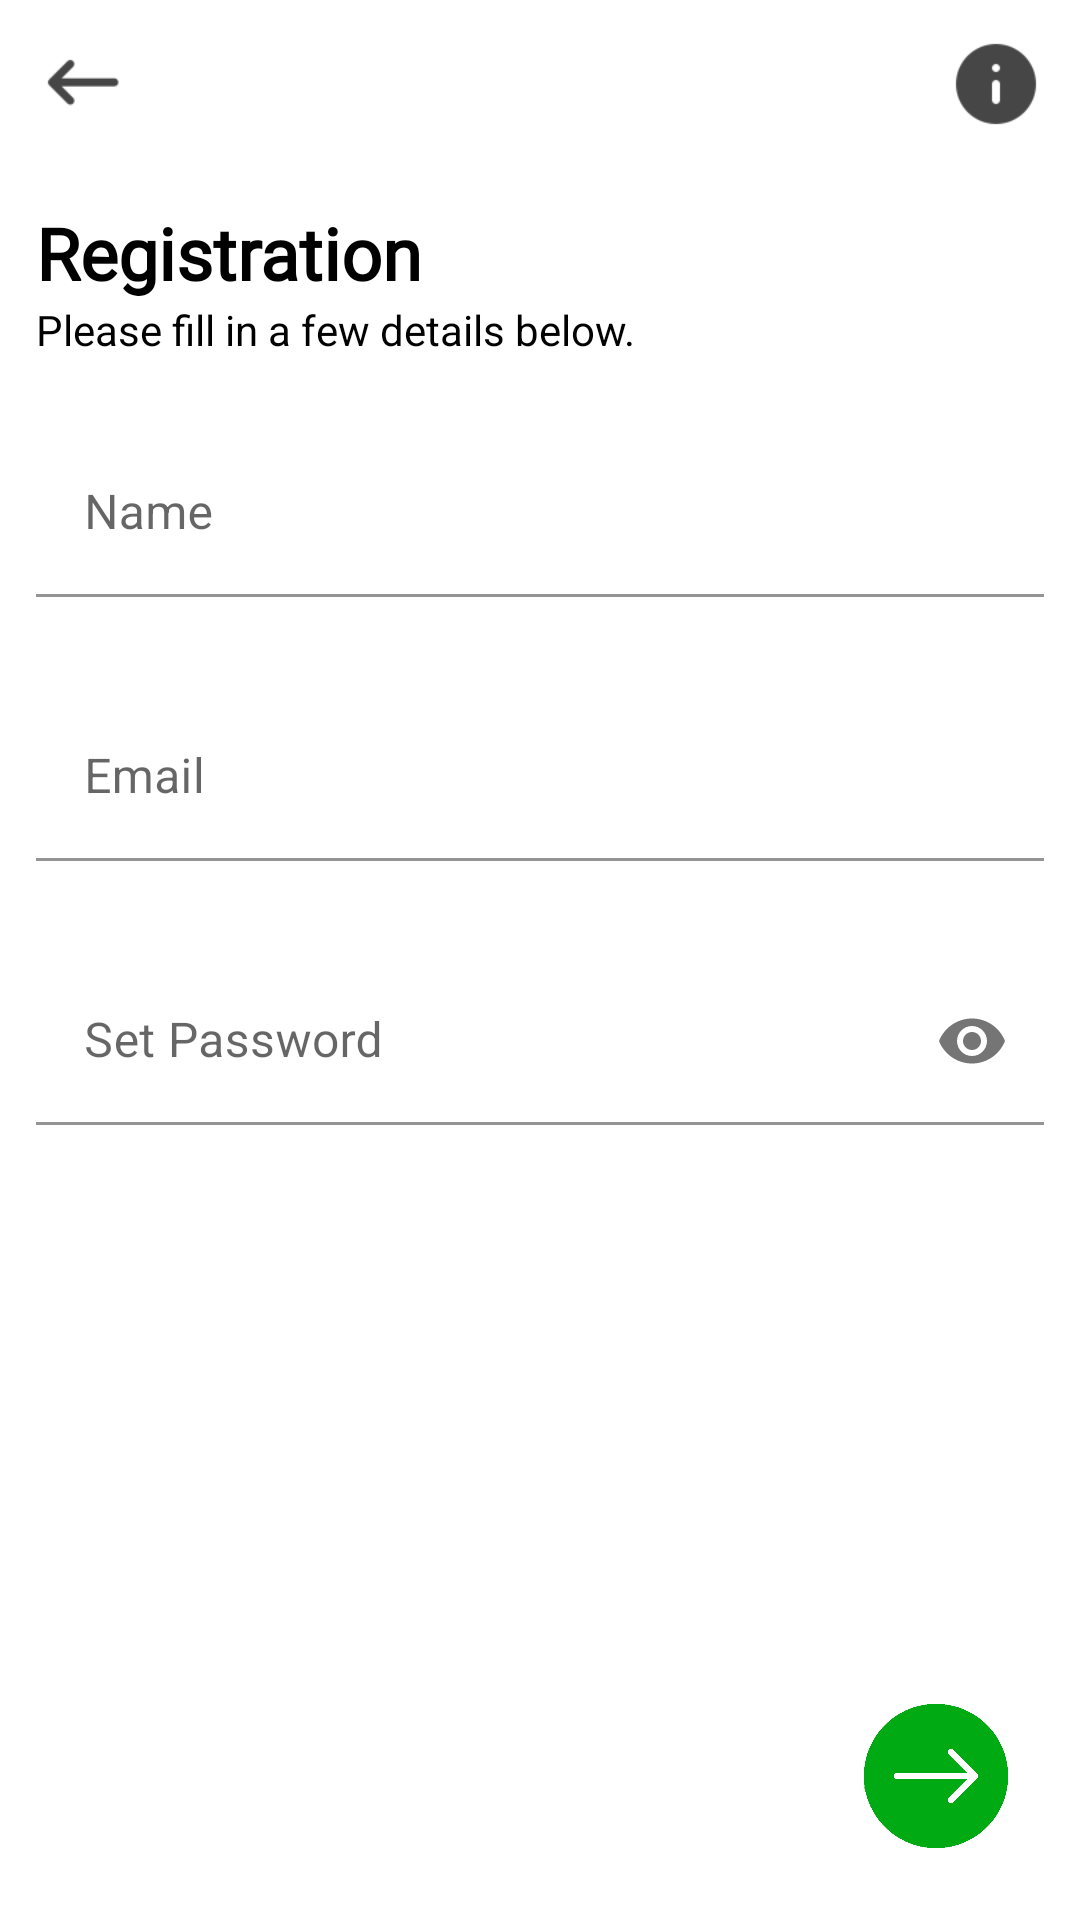

Named icons in this screenshot (1080*1920) and their centers, (x,y):
back: (83,83)
info: (996,84)
loginbutton: (936,1776)
